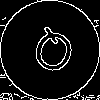Q: (25, 25, 80, 85)
